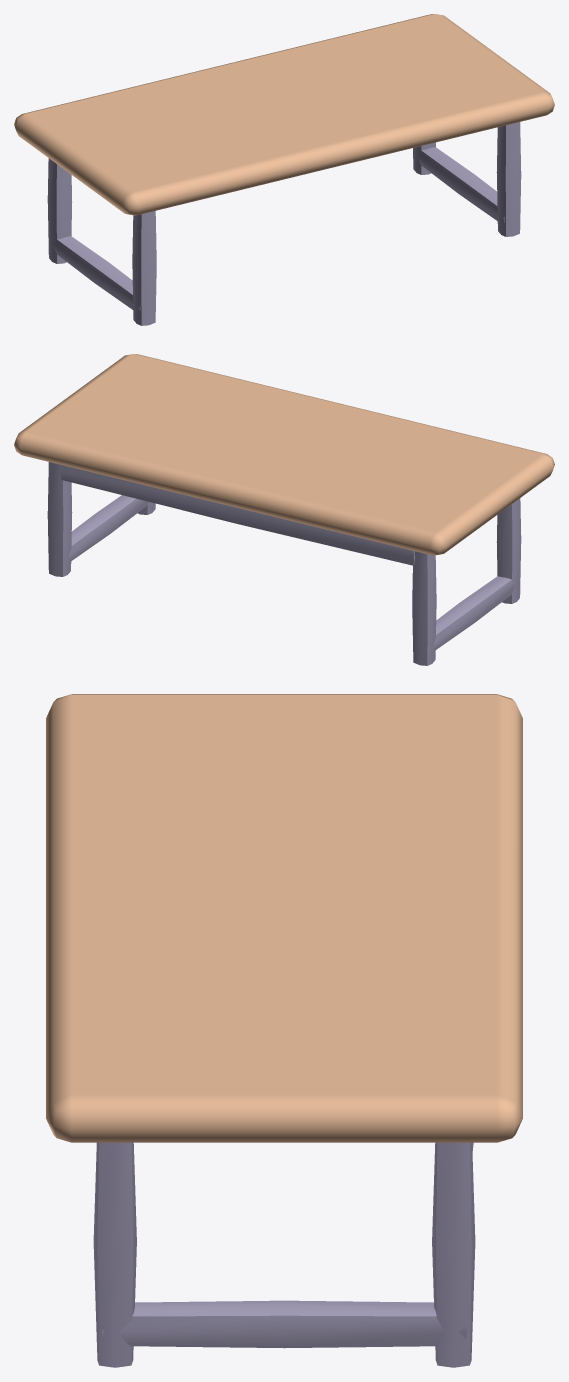
The model's file is desk.glb.
3 renders of one model, top to bottom at view 1: azimuth 30°, elevation 25°; view 2: azimuth 150°, elevation 25°; view 3: azimuth 270°, elevation 25°, orthographic. The views are drawn at different scales.
Visible parts, largest first — view 1: desktop, part (×5); view 2: desktop, part (×6); view 3: desktop, part (×3).
Part boxes in pixels (x1,y1,x2,y2): desktop: (14, 14, 554, 215); part (×5): (47, 122, 521, 325); desktop: (14, 354, 554, 555); part (×6): (47, 462, 521, 665); desktop: (46, 694, 522, 1142); part (×3): (93, 1142, 475, 1367).
Size of the model in its own units: 2.3 by 0.74 by 1.1.
Materials: 1 (1 with a texture image).
